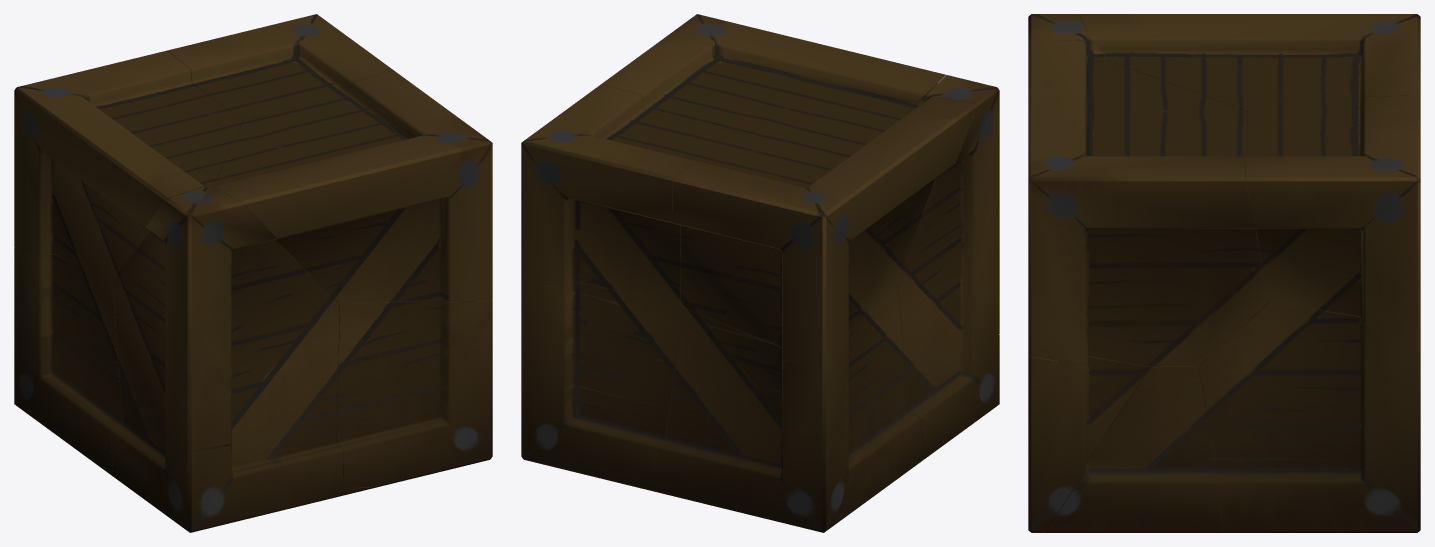
File: SM_BoxBroken.fbx
3 renders of one model, left to right at view 1: azimuth 30°, elevation 25°; view 2: azimuth 150°, elevation 25°; view 3: azimuth 270°, elevation 25°, orthographic. The views are drawn at different scales.
Parts seen in each view (by area): view 1: Box_Broken.001, Box_Broken.008, Box_Broken.002, Box_Broken.007, Box_Broken.003, Box_Broken.005, Box_Broken.009; view 2: Box_Broken.002, Box_Broken.003, Box_Broken.005, Box_Broken.004, Box_Broken.001, Box_Broken.008; view 3: Box_Broken.008, Box_Broken.004, Box_Broken.005, Box_Broken.002, Box_Broken.006, Box_Broken.007, Box_Broken.001.
Boxes of the visible parts, x1,y1,x2,y2 form: Box_Broken.001: (111, 186, 339, 523); Box_Broken.008: (214, 70, 492, 304); Box_Broken.002: (14, 50, 242, 280); Box_Broken.007: (336, 299, 492, 488); Box_Broken.003: (14, 248, 122, 476); Box_Broken.005: (167, 14, 393, 120); Box_Broken.009: (177, 445, 343, 532); Box_Broken.002: (672, 97, 976, 374); Box_Broken.003: (651, 284, 924, 532); Box_Broken.005: (521, 84, 749, 302); Box_Broken.004: (521, 279, 683, 490); Box_Broken.001: (897, 75, 999, 458); Box_Broken.008: (601, 14, 945, 135); Box_Broken.008: (1028, 40, 1268, 366); Box_Broken.004: (1198, 302, 1420, 532); Box_Broken.005: (1245, 95, 1420, 333); Box_Broken.002: (1080, 14, 1420, 111); Box_Broken.006: (1043, 366, 1224, 532); Box_Broken.007: (1028, 354, 1150, 532); Box_Broken.001: (1028, 14, 1105, 60).
Bounding box in the file's own units: 209 × 209 × 209.
